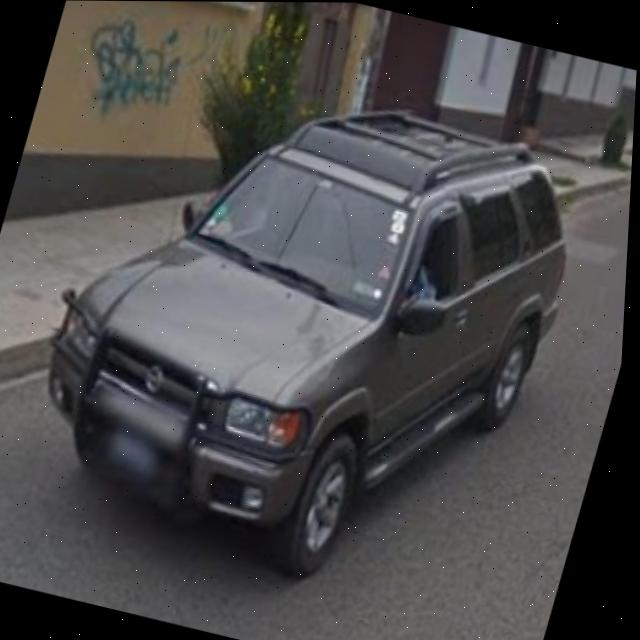vehicle: (10, 43, 608, 614)
